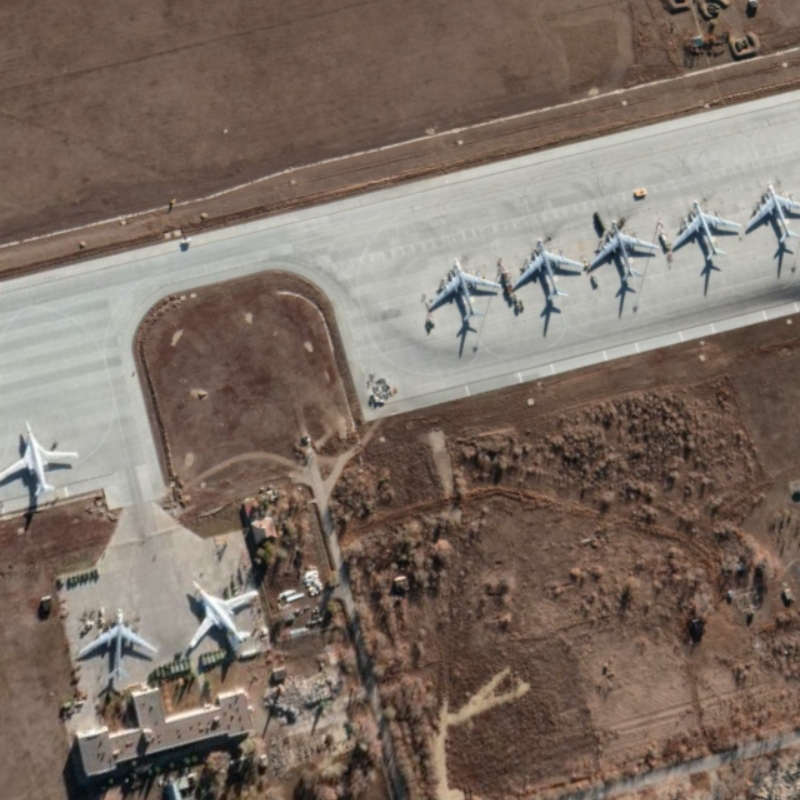A17: (77, 606, 159, 683), (426, 256, 504, 324), (509, 236, 586, 302), (587, 218, 662, 282), (670, 199, 743, 262), (745, 179, 800, 244)
A6: (1, 418, 80, 498), (187, 579, 262, 654)
